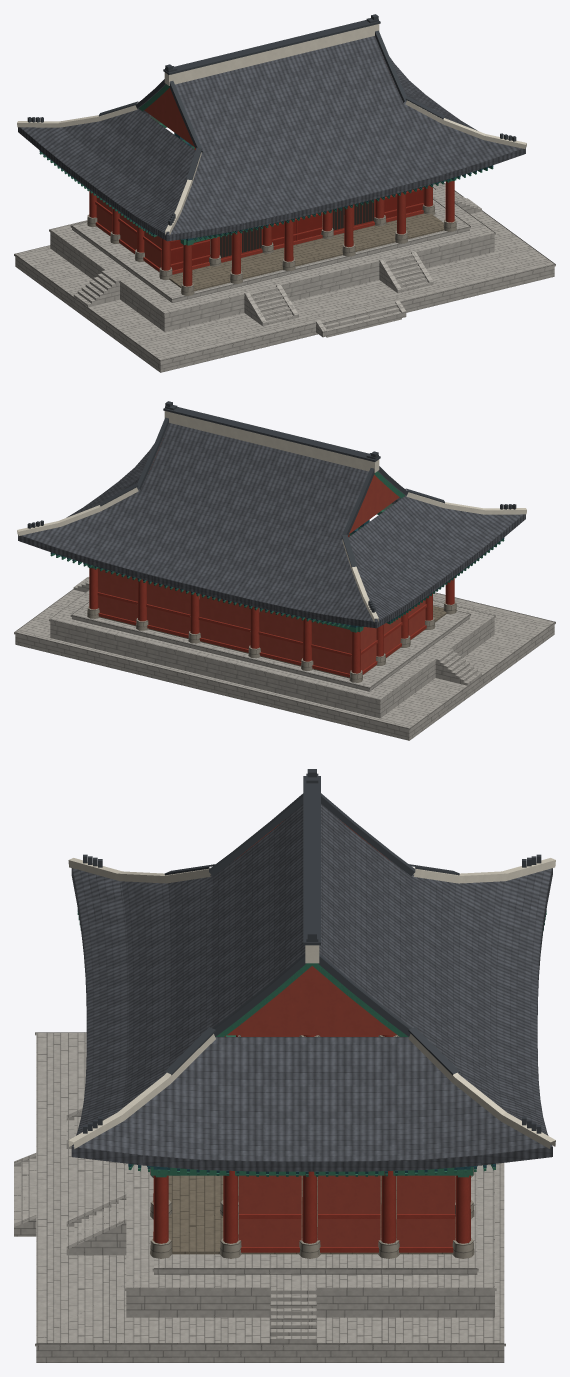
The picture shows the model from 3 angles, top to bottom: view 1: azimuth 30°, elevation 25°; view 2: azimuth 150°, elevation 25°; view 3: azimuth 270°, elevation 25°; orthographic projection. The views are drawn at different scales.
Visible parts, largest first — view 1: daeseongjeon; view 2: daeseongjeon; view 3: daeseongjeon.
Part boxes in pixels (x1,y1,x2,y2): daeseongjeon: (14, 14, 555, 372); daeseongjeon: (14, 401, 555, 740); daeseongjeon: (14, 769, 555, 1362).
Bounding box in the file's own units: 31.66 × 16.91 × 23.31.
14 materials, 12 textured.
